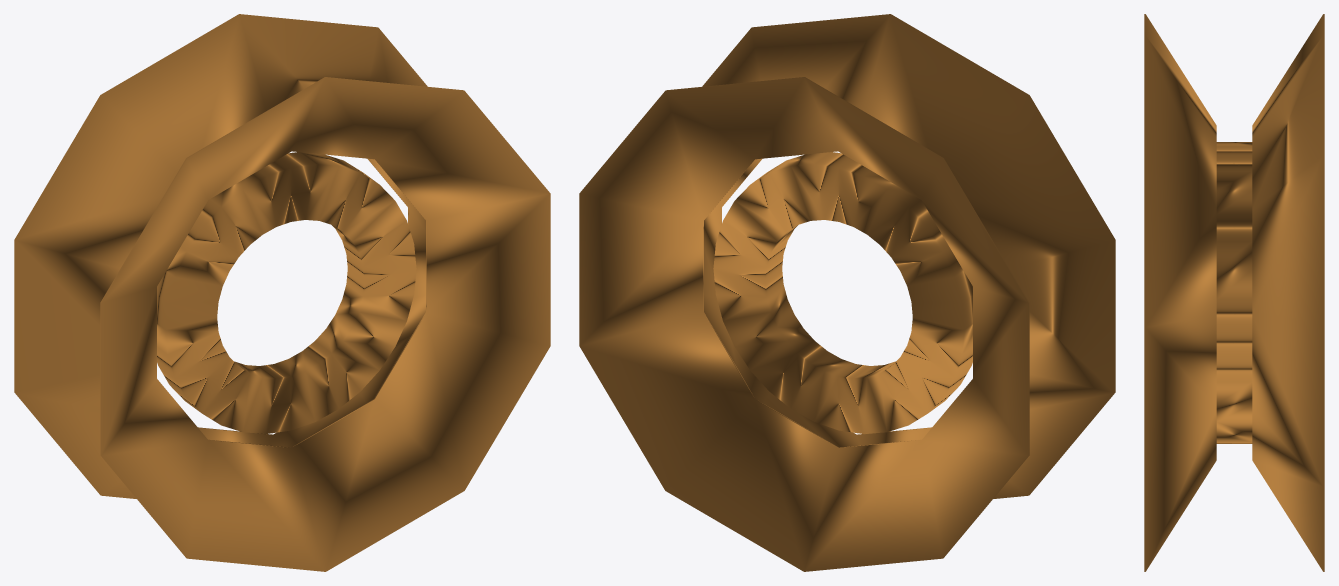
Rendered from mass_driver.glb.
3 views of the same model, side by side, from view 1: azimuth 30°, elevation 25°; view 2: azimuth 150°, elevation 25°; view 3: azimuth 270°, elevation 25° (orthographic). The views are drawn at different scales.
Visible parts, largest first — view 1: Circle; view 2: Circle; view 3: Circle.
Boxes of the visible parts, <box> form: Circle: <box>14,14,550,571</box>; Circle: <box>579,14,1115,571</box>; Circle: <box>1144,14,1324,571</box>.
Size of the model in its own units: 60.87 by 64 by 20.33.
